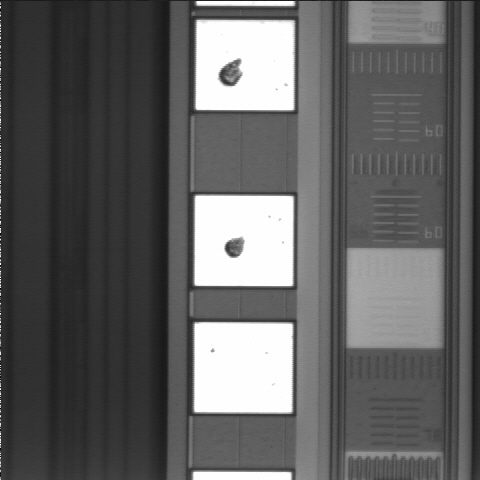pad: (194, 322, 293, 413), (196, 20, 294, 110), (195, 196, 293, 286)
